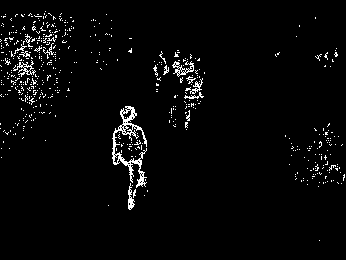person: (110, 102, 154, 216)
